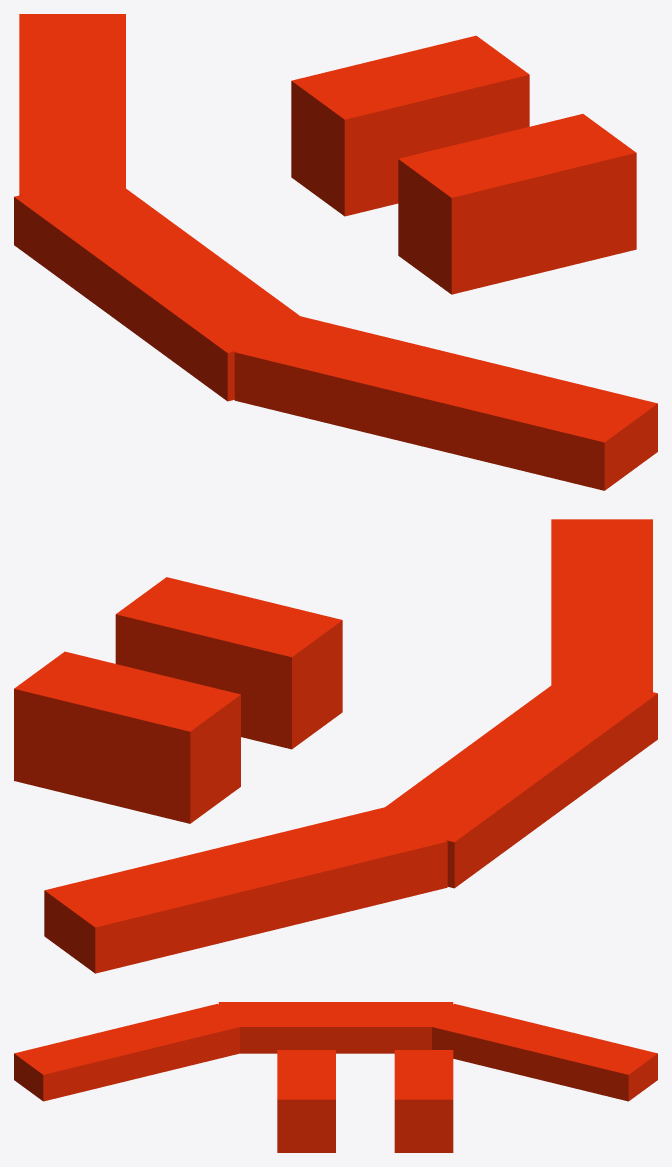
Rendered from Smiley.obj.
3 views of the same model, one above another, from view 1: azimuth 30°, elevation 25°; view 2: azimuth 150°, elevation 25°; view 3: azimuth 270°, elevation 25° (orthographic). The views are drawn at different scales.
Parts seen in each view (by area): view 1: Part7, Part4, Part2, Part5, Part1, Part6, Part3; view 2: Part1, Part4, Part5, Part2, Part7, Part3, Part6; view 3: Part1, Part7, Part4, Part2, Part5, Part3, Part6.
Part boxes in pixels (<box>): Part7: <box>234,315,657,490</box>; Part4: <box>14,189,319,401</box>; Part2: <box>291,35,529,167</box>; Part5: <box>398,114,636,246</box>; Part1: <box>19,14,125,195</box>; Part6: <box>398,201,636,294</box>; Part3: <box>291,123,529,216</box>; Part1: <box>44,804,447,973</box>; Part4: <box>367,686,657,888</box>; Part5: <box>115,577,342,703</box>; Part2: <box>14,651,240,777</box>; Part7: <box>551,519,652,691</box>; Part3: <box>14,735,240,823</box>; Part6: <box>115,660,342,749</box>; Part1: <box>426,1004,657,1101</box>; Part7: <box>14,1004,239,1101</box>; Part4: <box>218,1002,453,1053</box>; Part2: <box>394,1050,453,1126</box>; Part5: <box>277,1050,335,1126</box>; Part3: <box>394,1126,453,1152</box>; Part6: <box>277,1126,335,1152</box>.
Size of the model in its own units: 10 by 2 by 21.93.
